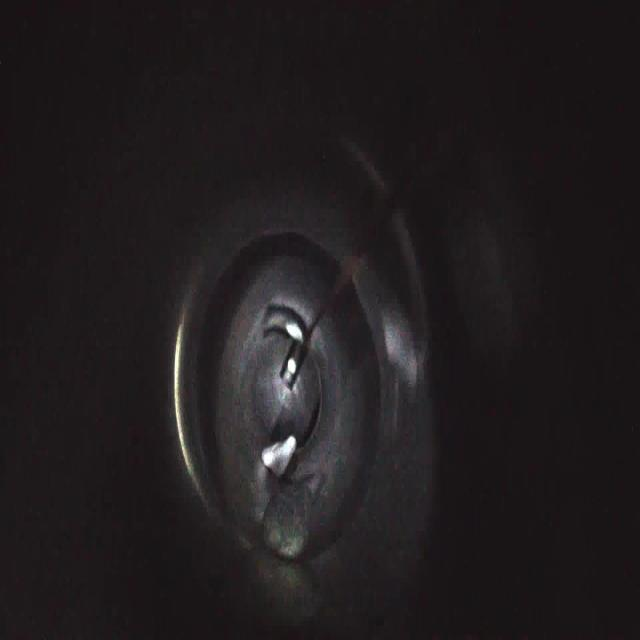impurity: (261, 481, 314, 562), (260, 433, 299, 478)
